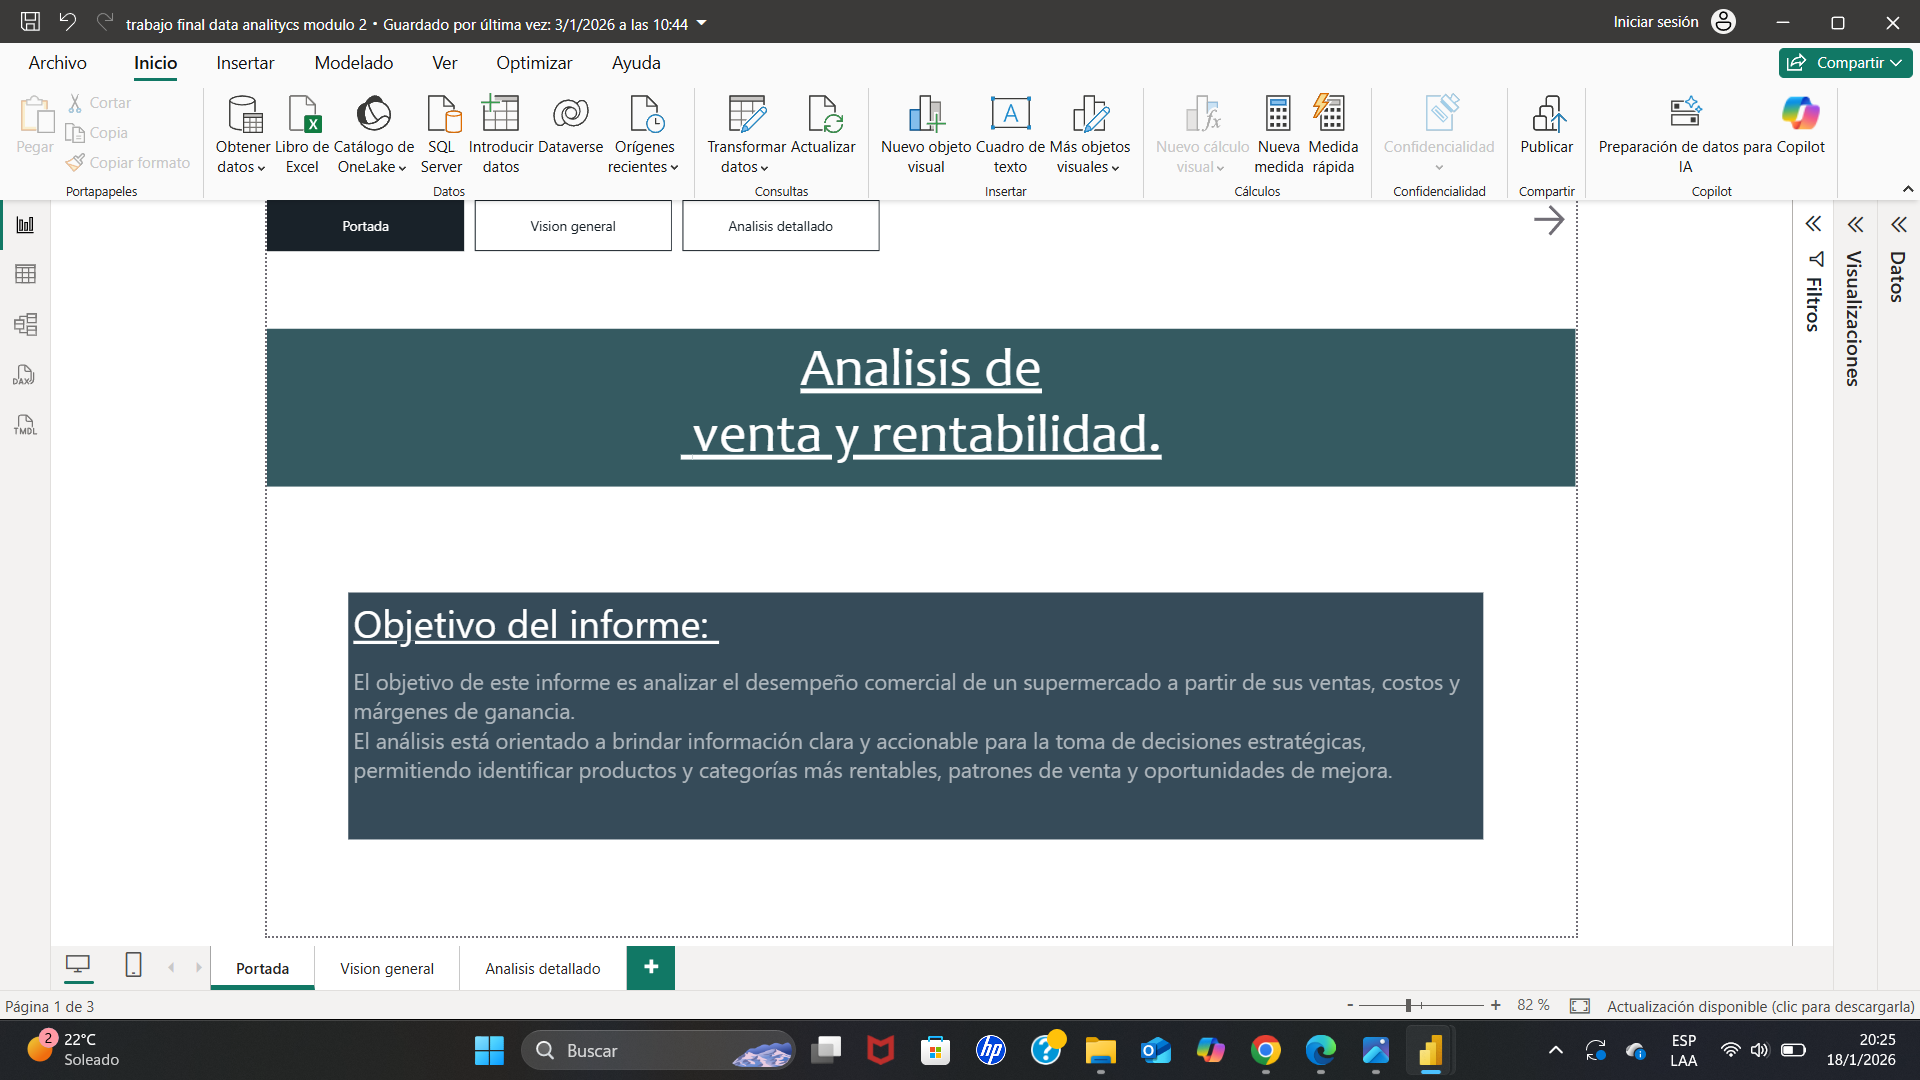

Layout of this report page (visuals, bound fields, positions):
{"tool":"powerbi","page":{"name":"Portada","canvas":[1280,720],"ordinal":0},"visuals":[{"type":"textbox","box":[10,0,280,280],"z":0},{"type":"textbox","box":[0,125.7,1280,154.3],"z":1000},{"type":"textbox","box":[79.6,384.2,1110.1,241.5],"z":1001},{"type":"pageNavigator","box":[0,0,600,50],"z":1002},{"type":"actionButton","box":[1233.6,0,46.7,39.8],"z":1003}]}

Visuals, with their boxes on the page's 1280x720 design canvas (x1, y1, x2, y2). These are canvas units, not pixel positions in the 1920x1080 screenshot, which may show the page scaled, cropped or inside an application window:
textbox: {"x1": 10, "y1": 0, "x2": 290, "y2": 280}
textbox: {"x1": 0, "y1": 126, "x2": 1280, "y2": 280}
textbox: {"x1": 80, "y1": 384, "x2": 1190, "y2": 626}
pageNavigator: {"x1": 0, "y1": 0, "x2": 600, "y2": 50}
actionButton: {"x1": 1234, "y1": 0, "x2": 1280, "y2": 40}
